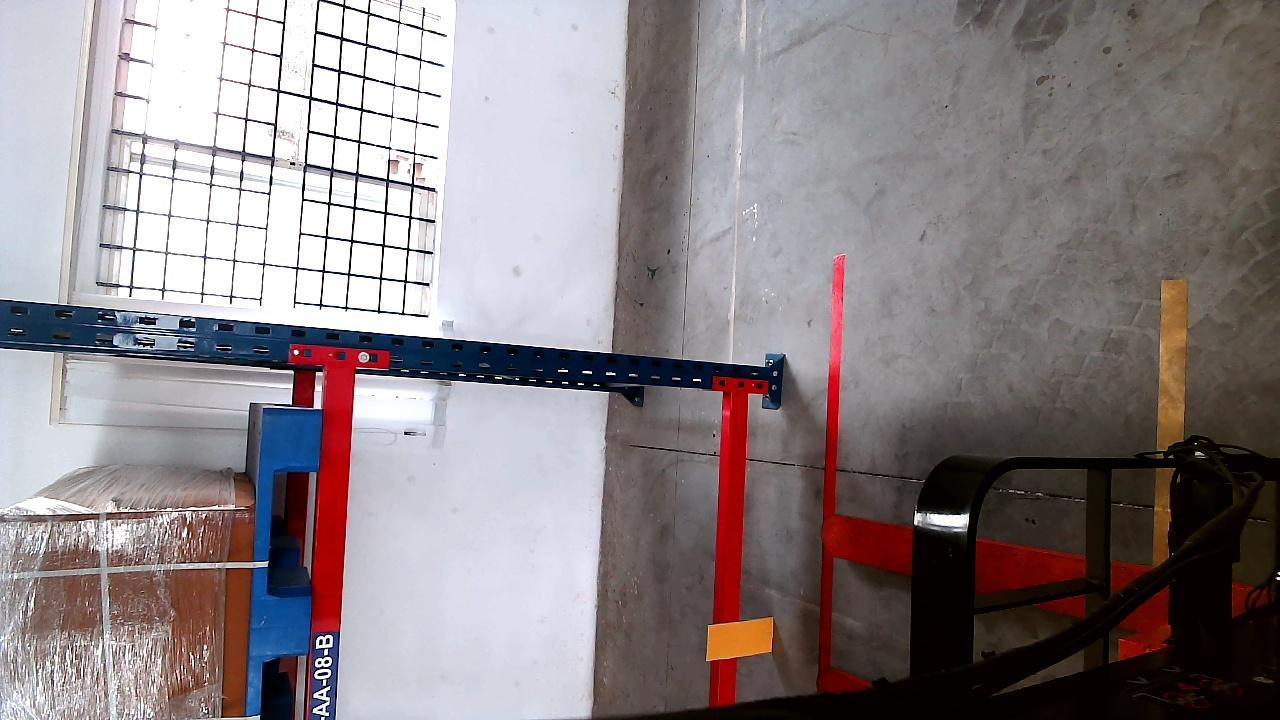red_line: (821, 255, 848, 665)
yellow_line: (1155, 282, 1185, 560)
